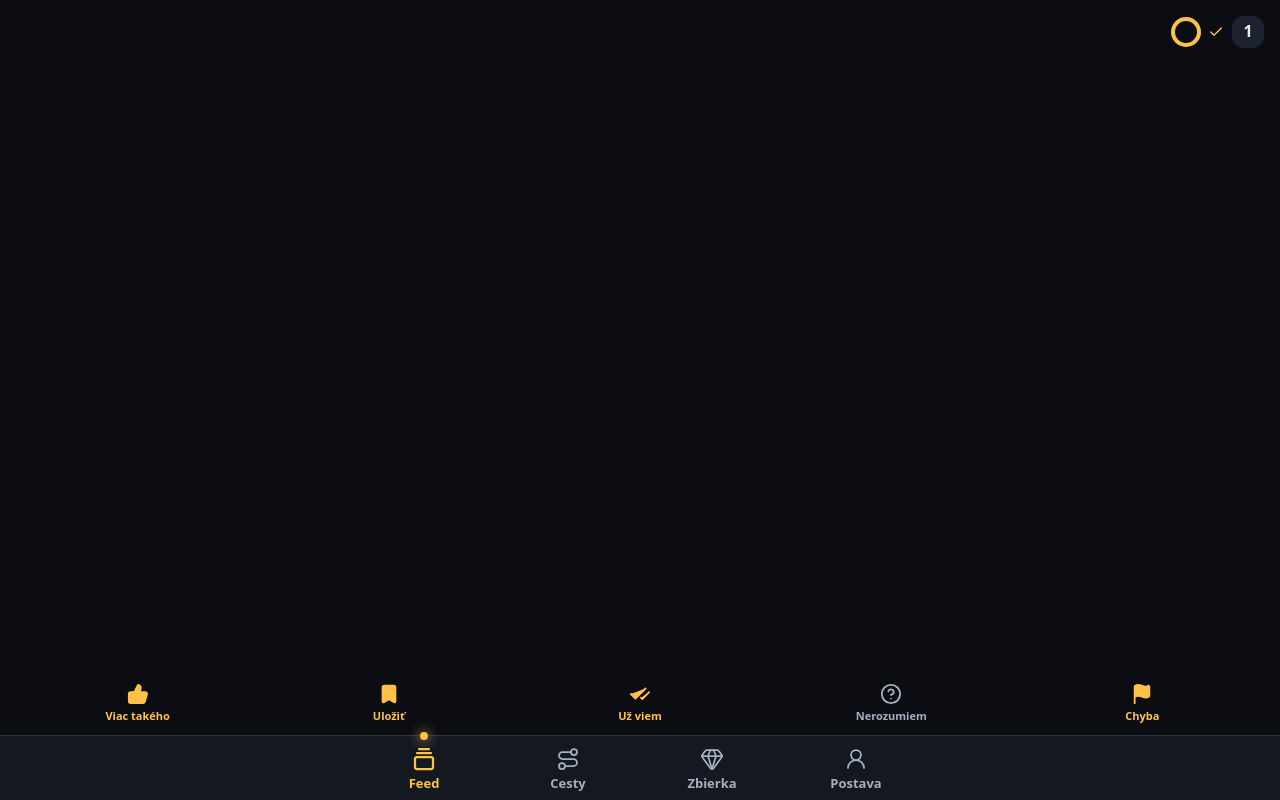
Test case: app shell › opens Cesty from its tab
Click the link "Cesty" at coordinates (568, 769), box [550, 747, 586, 792]
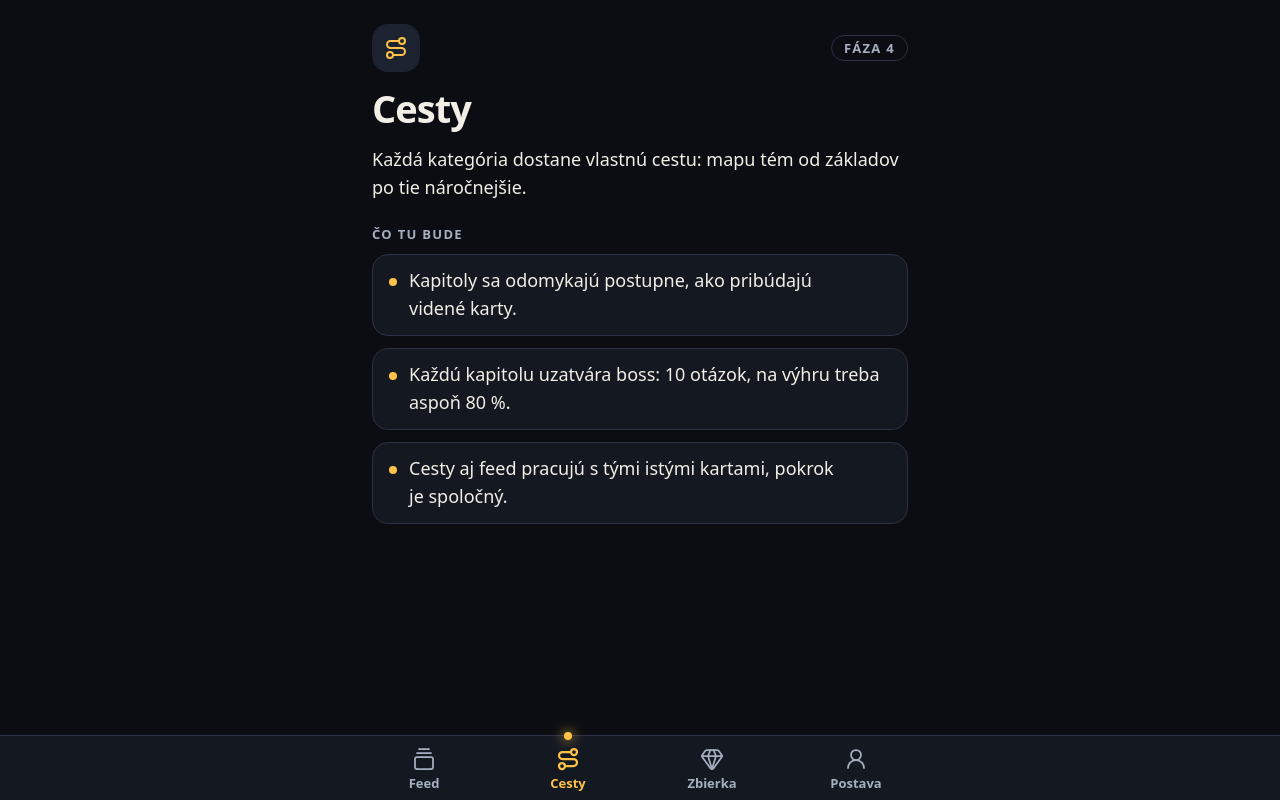
expect the heading "Cesty" is shown: met, box [372, 82, 471, 134]
